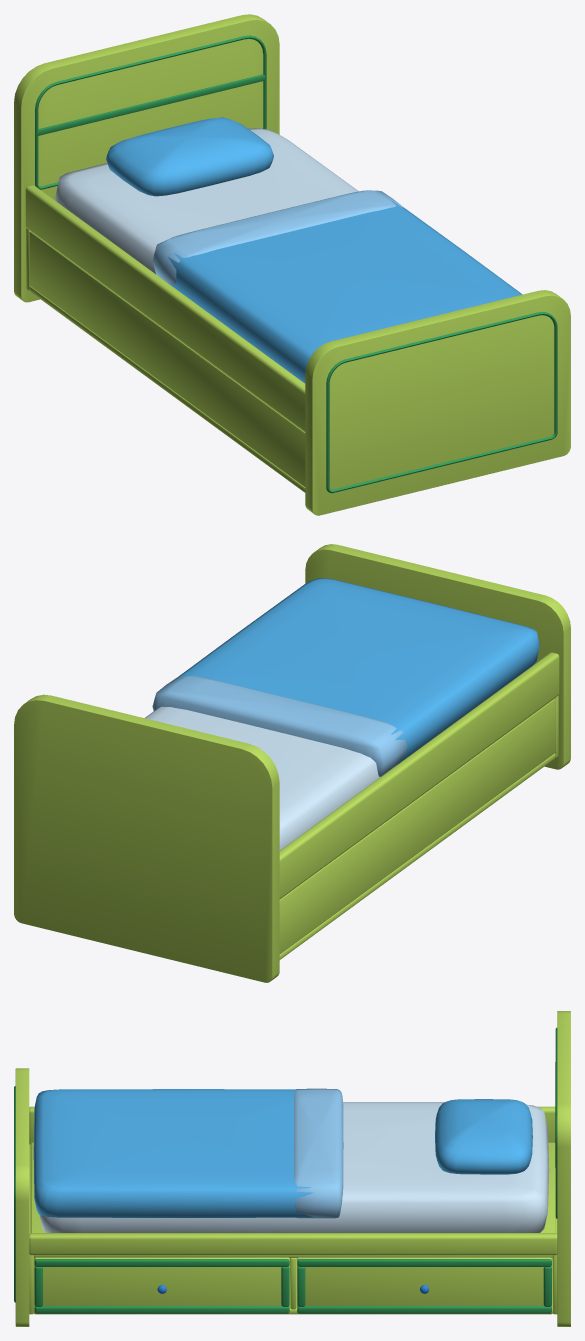
Rendered from cama_infantil_gavetas_verde.glb.
The picture shows the model from 3 angles, top to bottom: view 1: azimuth 30°, elevation 25°; view 2: azimuth 150°, elevation 25°; view 3: azimuth 270°, elevation 25°; orthographic projection. The views are drawn at different scales.
Parts seen in each view (by area): view 1: cama_infantil_gavetas_verde; view 2: cama_infantil_gavetas_verde; view 3: cama_infantil_gavetas_verde, gaveta_1, gaveta_2.
Boxes of the visible parts, left/top/right/bottom form: cama_infantil_gavetas_verde: left=14, top=14, right=570, bottom=515; cama_infantil_gavetas_verde: left=14, top=544, right=570, bottom=982; cama_infantil_gavetas_verde: left=14, top=1011, right=570, bottom=1326; gaveta_1: left=34, top=1257, right=289, bottom=1313; gaveta_2: left=297, top=1257, right=551, bottom=1313.
Bounding box in the file's own units: 1.06 × 0.86 × 2.05.
1 material, 1 textured.
